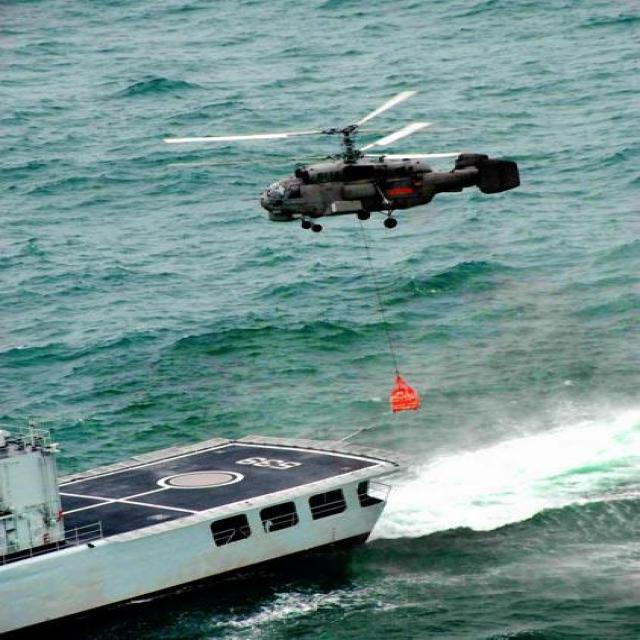MIL_HELO: (160, 84, 524, 234)
